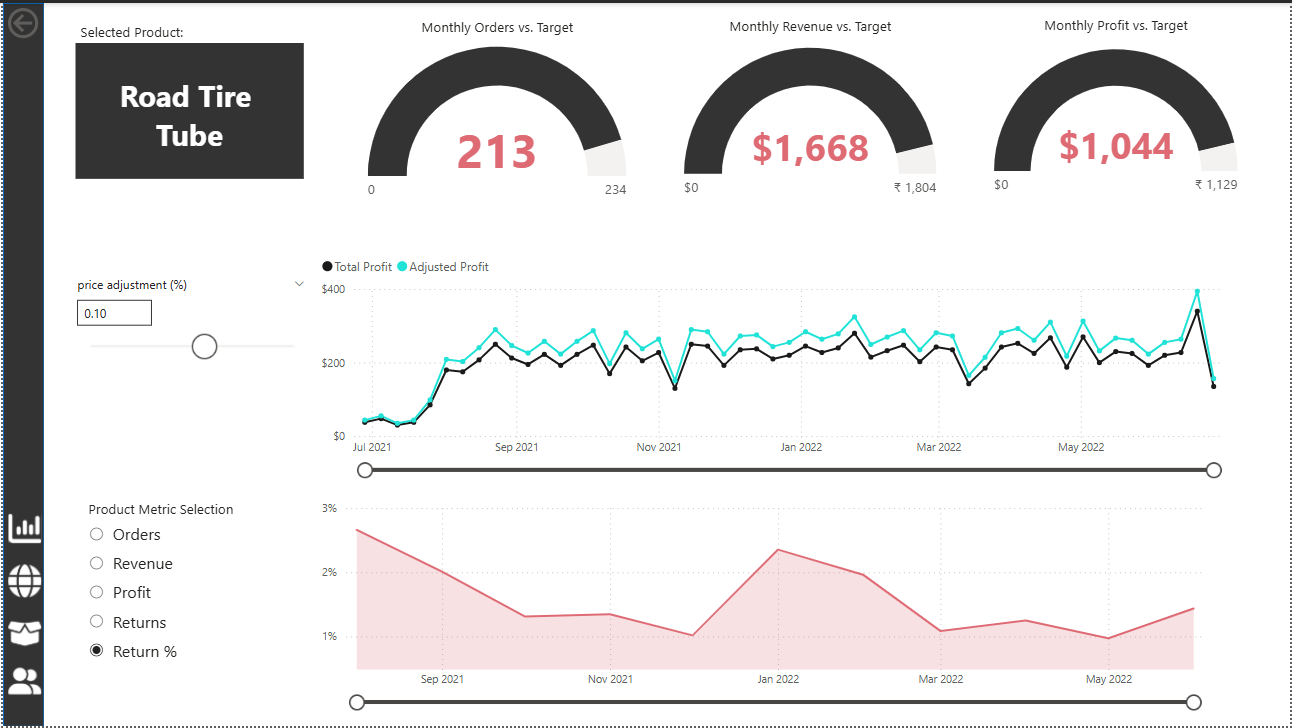

What the dashboard file says about the page in this screenshot:
{"tool":"powerbi","page":{"name":"Product Detail","canvas":[1280,720],"ordinal":2},"visuals":[{"type":"shape","box":[0,0,41.1,720.3],"z":0},{"type":"gauge","title":"Monthly Orders vs. Target","fields":{"Y":["Measure Table.Total Orders"],"MaxValue":["Measure Table.Order Target"]},"box":[358.8,15,267.5,196.2],"z":1000},{"type":"gauge","title":"Monthly Revenue vs. Target","fields":{"Y":["Measure Table.Total Revenue"],"MaxValue":["Measure Table.Revenue Target"]},"box":[673.1,13.8,261.2,197.5],"z":2000},{"type":"gauge","title":"Monthly Profit vs. Target","fields":{"Y":["Measure Table.Total Profit"],"MaxValue":["Measure Table.Profit Target"]},"box":[981.2,12.5,252.5,198.8],"z":3000},{"type":"lineChart","title":"Profit Trending","fields":{"Category":["Calendar Lookup.date Hierarchy.Start of Year","Calendar Lookup.date Hierarchy.Start of Month","Calendar Lookup.date Hierarchy.Start of Week","Calendar Lookup.date Hierarchy.Date"],"Y":["Measure Table.Total Profit","Measure Table.Adjusted Profit"]},"box":[312.2,242.6,921.8,232.6],"z":4000},{"type":"areaChart","title":"Returns Trending","fields":{"Y":["Measure Table.Return Rate"],"Category":["Calendar Lookup.date Hierarchy.Start of Year","Calendar Lookup.date Hierarchy.Start of Month","Calendar Lookup.date Hierarchy.Start of Week","Calendar Lookup.date Hierarchy.Date"]},"box":[312.2,488.9,901.9,217.7],"z":5000},{"type":"actionButton","box":[0,0,100,40],"z":6000},{"type":"textbox","box":[72.5,15,140,30],"z":7000},{"type":"card","fields":{"Values":["Min(Product Lookup.ProductName)"]},"box":[72.5,40,227.5,135],"z":8000},{"type":"actionButton","box":[1.2,500.1,41.1,46],"z":9000},{"type":"actionButton","box":[0.9,552.1,41.1,46],"z":10000},{"type":"actionButton","box":[0.9,604.1,41.1,46],"z":11000},{"type":"actionButton","box":[0.9,651.8,41.1,46],"z":12000},{"type":"slicer","fields":{"Values":["price adjustment (%).price adjustment (%)"]},"box":[61,267.5,251.3,131.9],"z":13000},{"type":"slicer","fields":{"Values":["Parameter.Parameter"]},"box":[72.5,489.2,217.6,207.6],"z":14000}]}

Visuals, with their boxes on the page's 1280x720 design canvas (x1, y1, x2, y2). These are canvas units, not pixel positions in the 1292x728 screenshot, which may show the page scaled, cropped or inside an application window:
shape: locate(0, 0, 41, 720)
"Monthly Orders vs. Target" gauge: locate(359, 15, 626, 211)
"Monthly Revenue vs. Target" gauge: locate(673, 14, 934, 211)
"Monthly Profit vs. Target" gauge: locate(981, 12, 1234, 211)
"Profit Trending" lineChart: locate(312, 243, 1234, 475)
"Returns Trending" areaChart: locate(312, 489, 1214, 707)
actionButton: locate(0, 0, 100, 40)
textbox: locate(72, 15, 212, 45)
card - Min(Product Lookup.ProductName): locate(72, 40, 300, 175)
actionButton: locate(1, 500, 42, 546)
actionButton: locate(1, 552, 42, 598)
actionButton: locate(1, 604, 42, 650)
actionButton: locate(1, 652, 42, 698)
slicer - price adjustment (%).price adjustment (%): locate(61, 268, 312, 399)
slicer - Parameter.Parameter: locate(72, 489, 290, 697)
